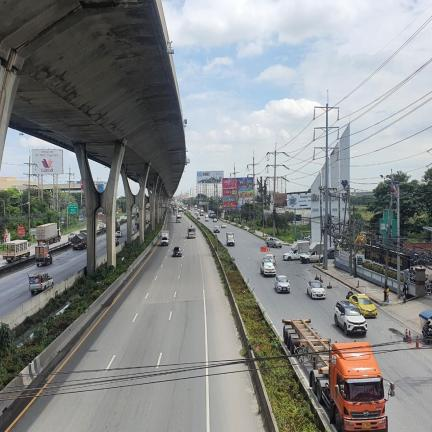car: (334, 300, 367, 335), (307, 280, 325, 297), (275, 275, 290, 292), (260, 258, 275, 275), (266, 237, 281, 247), (265, 253, 275, 265), (172, 246, 182, 256), (214, 225, 220, 233), (221, 223, 226, 228)
pickup: (29, 273, 53, 294), (68, 233, 75, 241)
taxi: (349, 294, 377, 317)
truck: (282, 319, 388, 432), (3, 240, 30, 262), (36, 223, 60, 244), (283, 241, 309, 260), (35, 245, 52, 266), (71, 232, 87, 249), (226, 232, 235, 246), (161, 230, 168, 245), (188, 225, 196, 238), (176, 213, 181, 222), (200, 209, 204, 216)
